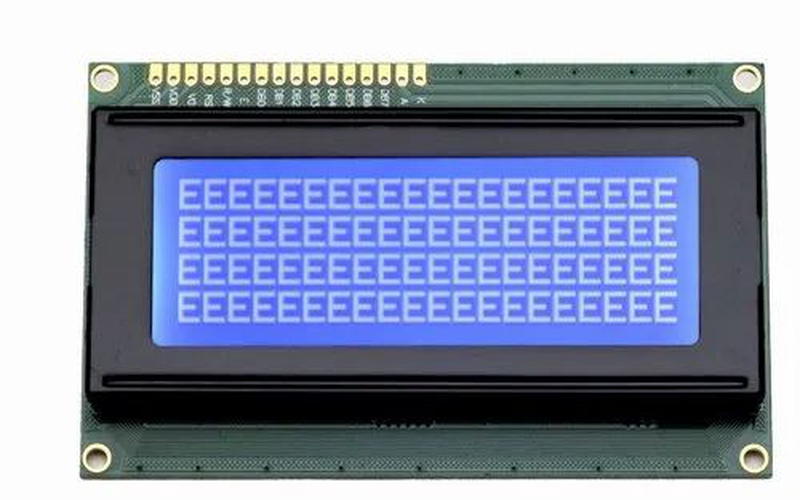LCD: (76, 98, 767, 404)
